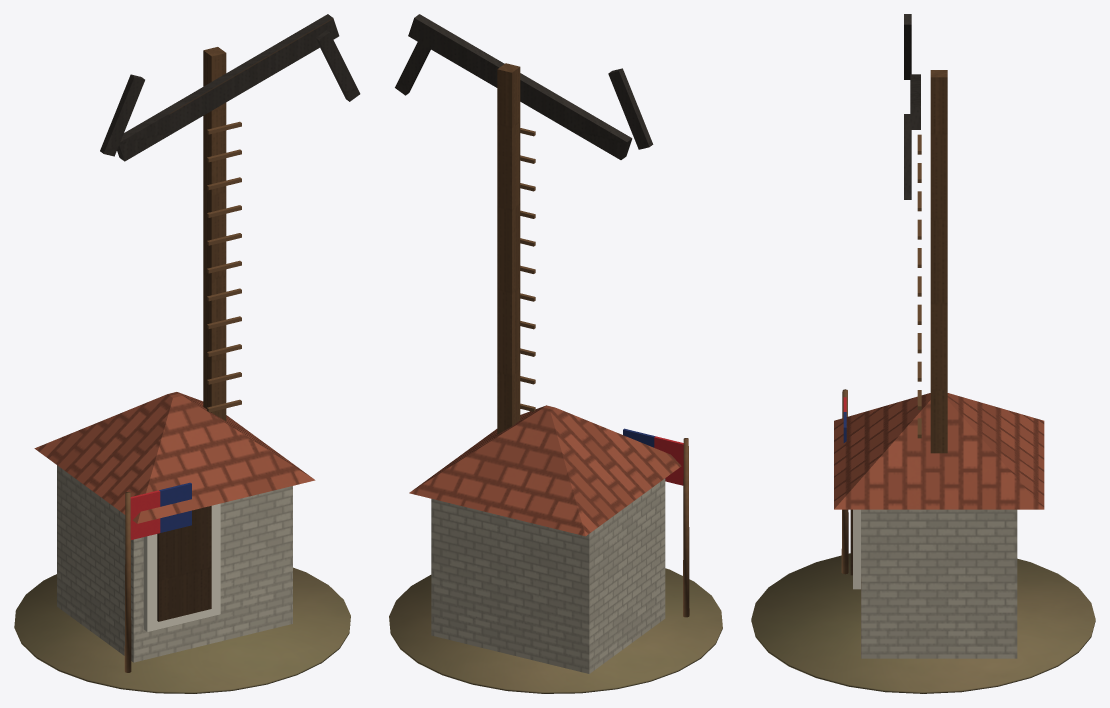
File: telegraph_br.glb
3 renders of one model, left to right at view 1: azimuth 30°, elevation 25°; view 2: azimuth 150°, elevation 25°; view 3: azimuth 270°, elevation 25°, orthographic. The views are drawn at different scales.
Parts seen in each view (by area): view 1: telegraph_br; view 2: telegraph_br; view 3: telegraph_br.
Boxes of the visible parts, x1=… form: telegraph_br: x1=14, y1=14, x2=360, y2=693; telegraph_br: x1=389, y1=14, x2=722, y2=693; telegraph_br: x1=751, y1=14, x2=1095, y2=693.
Bounding box in the file's own units: 4.73 × 8.27 × 4.4.
Materials: 1 (1 with a texture image).
